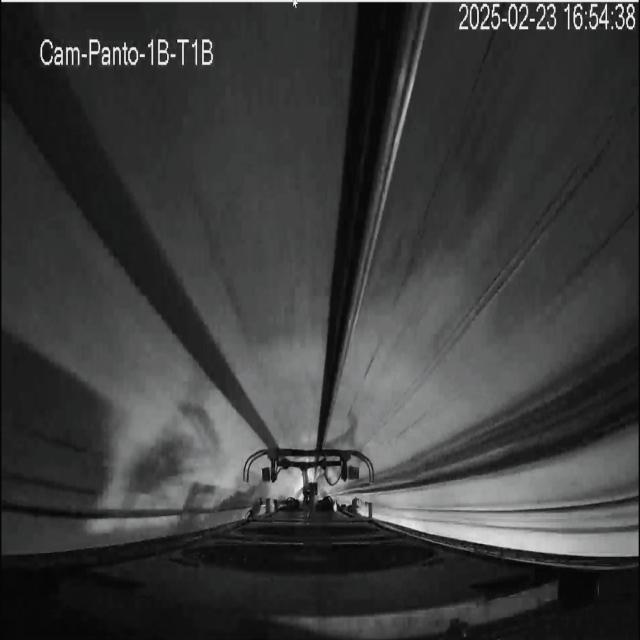Camera Stamp: (35, 28, 219, 70)
Date Stamp: (457, 3, 637, 33)
No - Spark: (243, 445, 375, 517)
